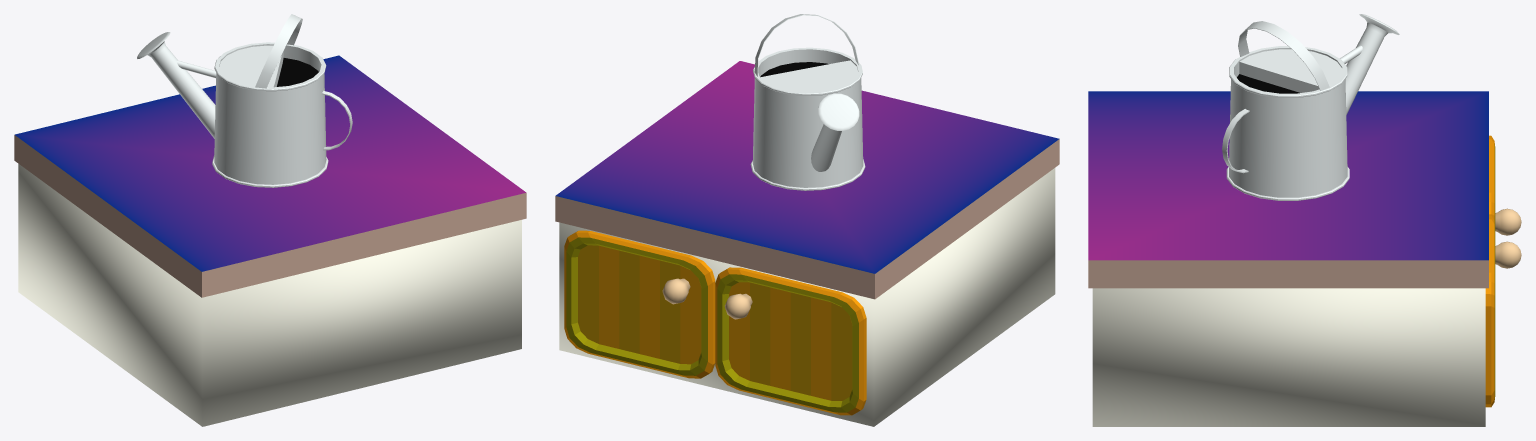
File: WateringCan Provider.fbx
3 views of the same model, side by side, from view 1: azimuth 30°, elevation 25°; view 2: azimuth 150°, elevation 25°; view 3: azimuth 270°, elevation 25° (orthographic). The views are drawn at different scales.
Parts seen in each view (by area): view 1: Body, Top, Barrel.001, Top Rim, Spout.001, TopHandle.001; view 2: Top, Doors, Body, Top Rim, Barrel.001, Spout.001, Handles, TopHandle.001; view 3: Top, Body, Barrel.001, Top Rim, Doors, Spout.001, TopHandle.001, Handles, BackHandle.001.
Boxes of the visible parts, x1,y1,x2,y2 form: Body: [18, 164, 521, 426]; Top: [15, 55, 525, 271]; Barrel.001: [212, 42, 328, 187]; Top Rim: [14, 135, 526, 297]; Spout.001: [137, 32, 215, 138]; TopHandle.001: [255, 14, 302, 88]; Top: [555, 61, 1059, 273]; Doors: [564, 230, 866, 415]; Body: [559, 168, 1055, 426]; Top Rim: [555, 139, 1059, 299]; Barrel.001: [750, 47, 865, 190]; Spout.001: [811, 93, 859, 171]; Handles: [662, 278, 752, 319]; TopHandle.001: [754, 14, 859, 76]; Top: [1088, 91, 1488, 260]; Body: [1092, 288, 1485, 426]; Barrel.001: [1226, 46, 1349, 200]; Top Rim: [1088, 260, 1488, 288]; Doors: [1485, 135, 1495, 407]; Spout.001: [1345, 14, 1399, 114]; TopHandle.001: [1238, 21, 1329, 90]; Handles: [1495, 208, 1521, 268]; BackHandle.001: [1222, 109, 1249, 173].
Bounding box in the file's own units: 100 × 89.59 × 108.
